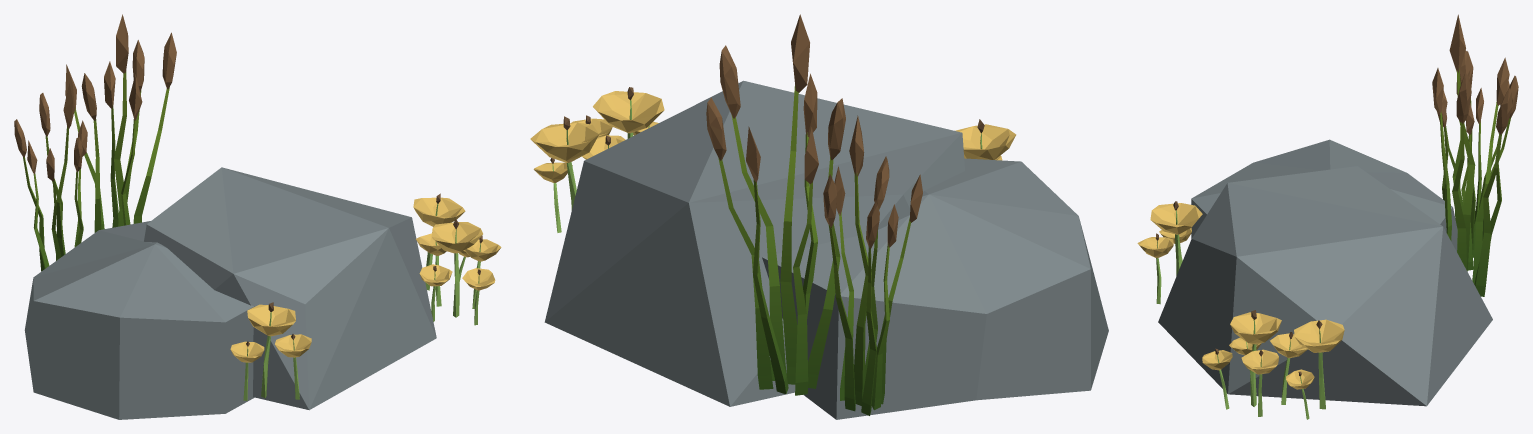
Rendered from Rock_08.fbx.
3 views of the same model, side by side, from view 1: azimuth 30°, elevation 25°; view 2: azimuth 150°, elevation 25°; view 3: azimuth 270°, elevation 25° (orthographic). The views are drawn at different scales.
Visible parts, largest first — view 1: Rock_08; view 2: Rock_08; view 3: Rock_08.
Boxes of the visible parts, x1,y1,x2,y2 form: Rock_08: [14, 14, 501, 419]; Rock_08: [530, 14, 1108, 419]; Rock_08: [1137, 14, 1518, 419].
Size of the model in its own units: 1.12 by 0.7825 by 0.8651.
